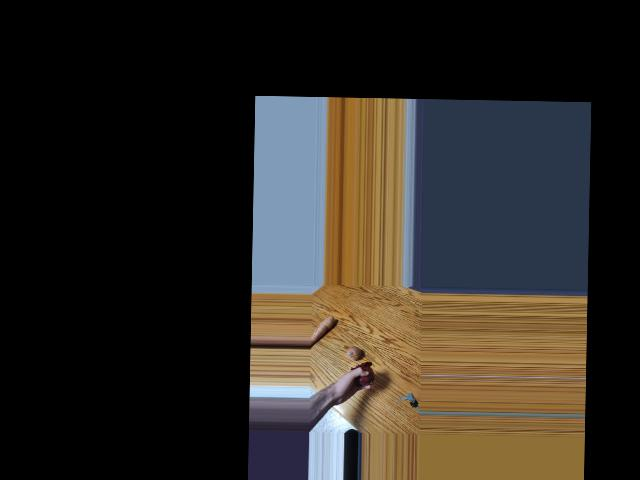onion: (342, 347, 360, 365)
